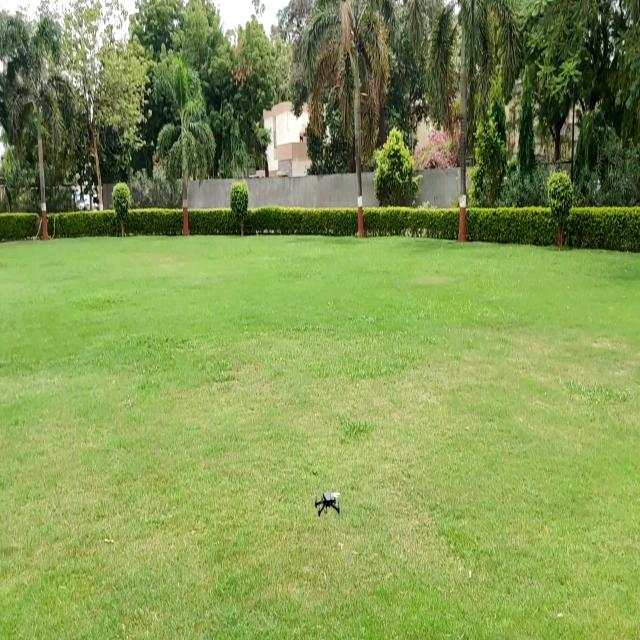drone: (307, 469, 350, 528)
